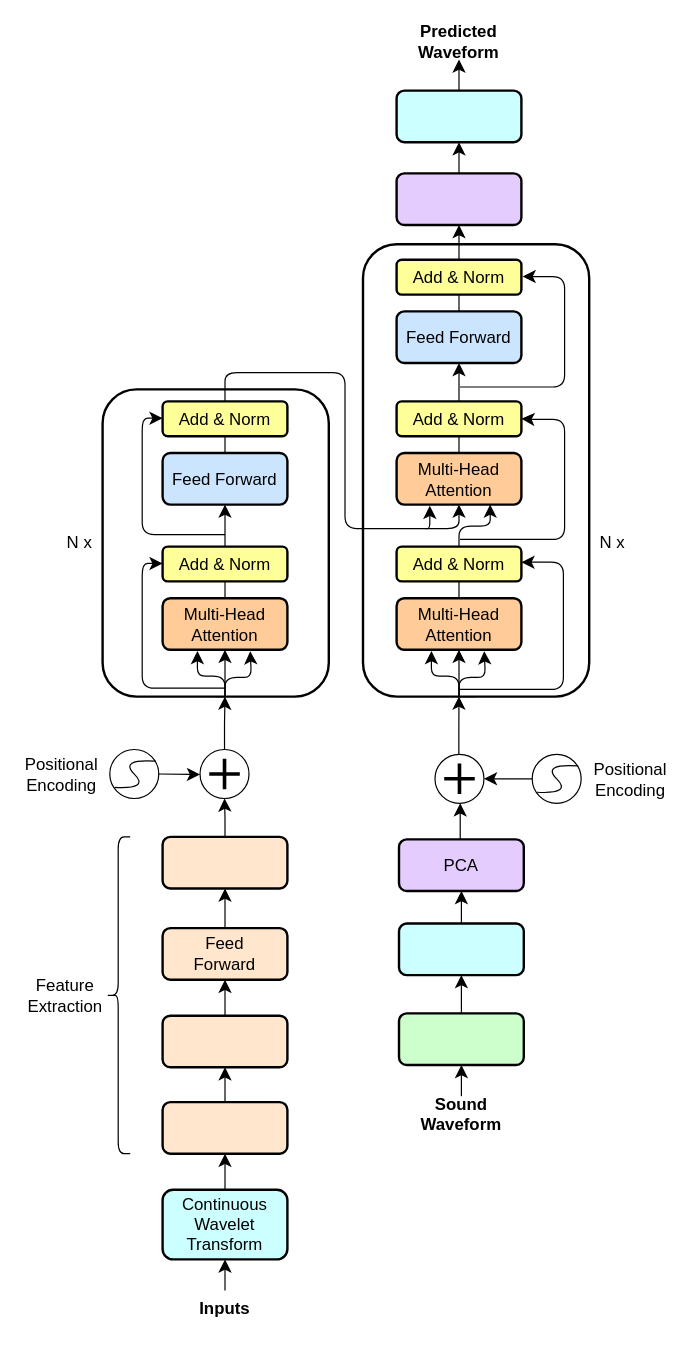
Some shapes in this 691 by 1346 pixel diagram are drawn without their labels. The shapes that lost their labels are listed below. From the top down, each one's centre as x and y in pixels, then its label:
At point (458, 116): "ISTFT".
At point (458, 199): "Inverse PCA".
At point (224, 862): "Convolution Module".
At point (460, 949): "Spectrogram".
At point (224, 1041): "LayerNorm".
At point (460, 1039): "Waveform Augmentation".
At point (224, 1127): "Pointwise Convolution".
